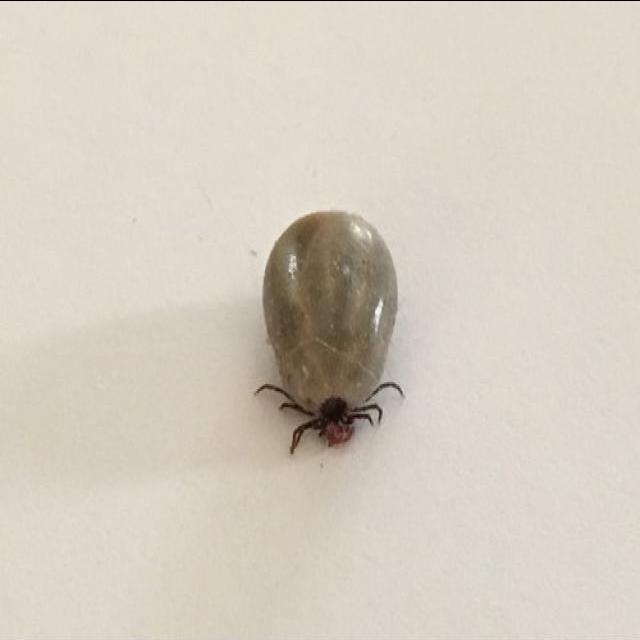Ixodes Ricinus-F-Fed: (259, 210, 401, 456)
